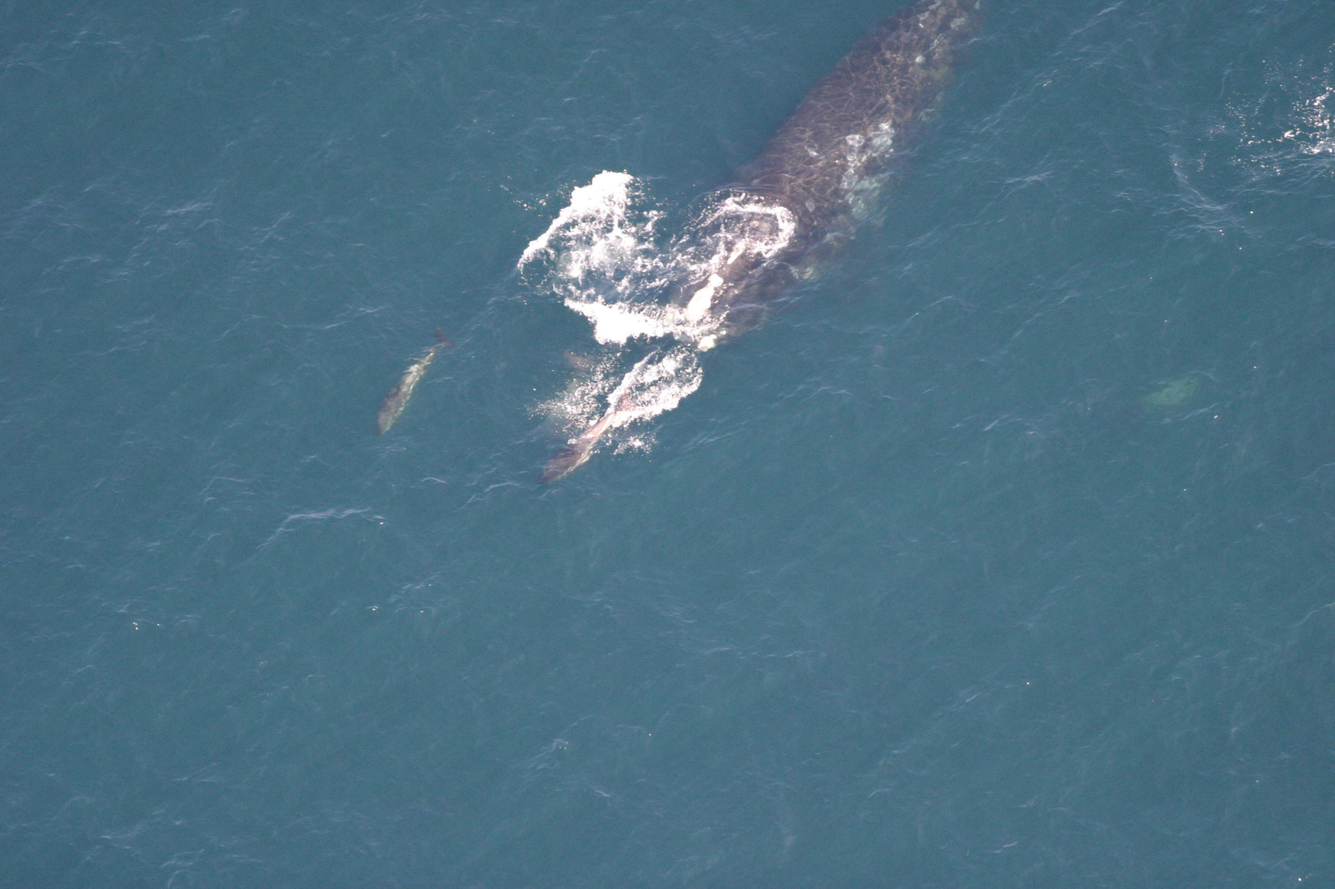whale: (649, 0, 992, 359)
